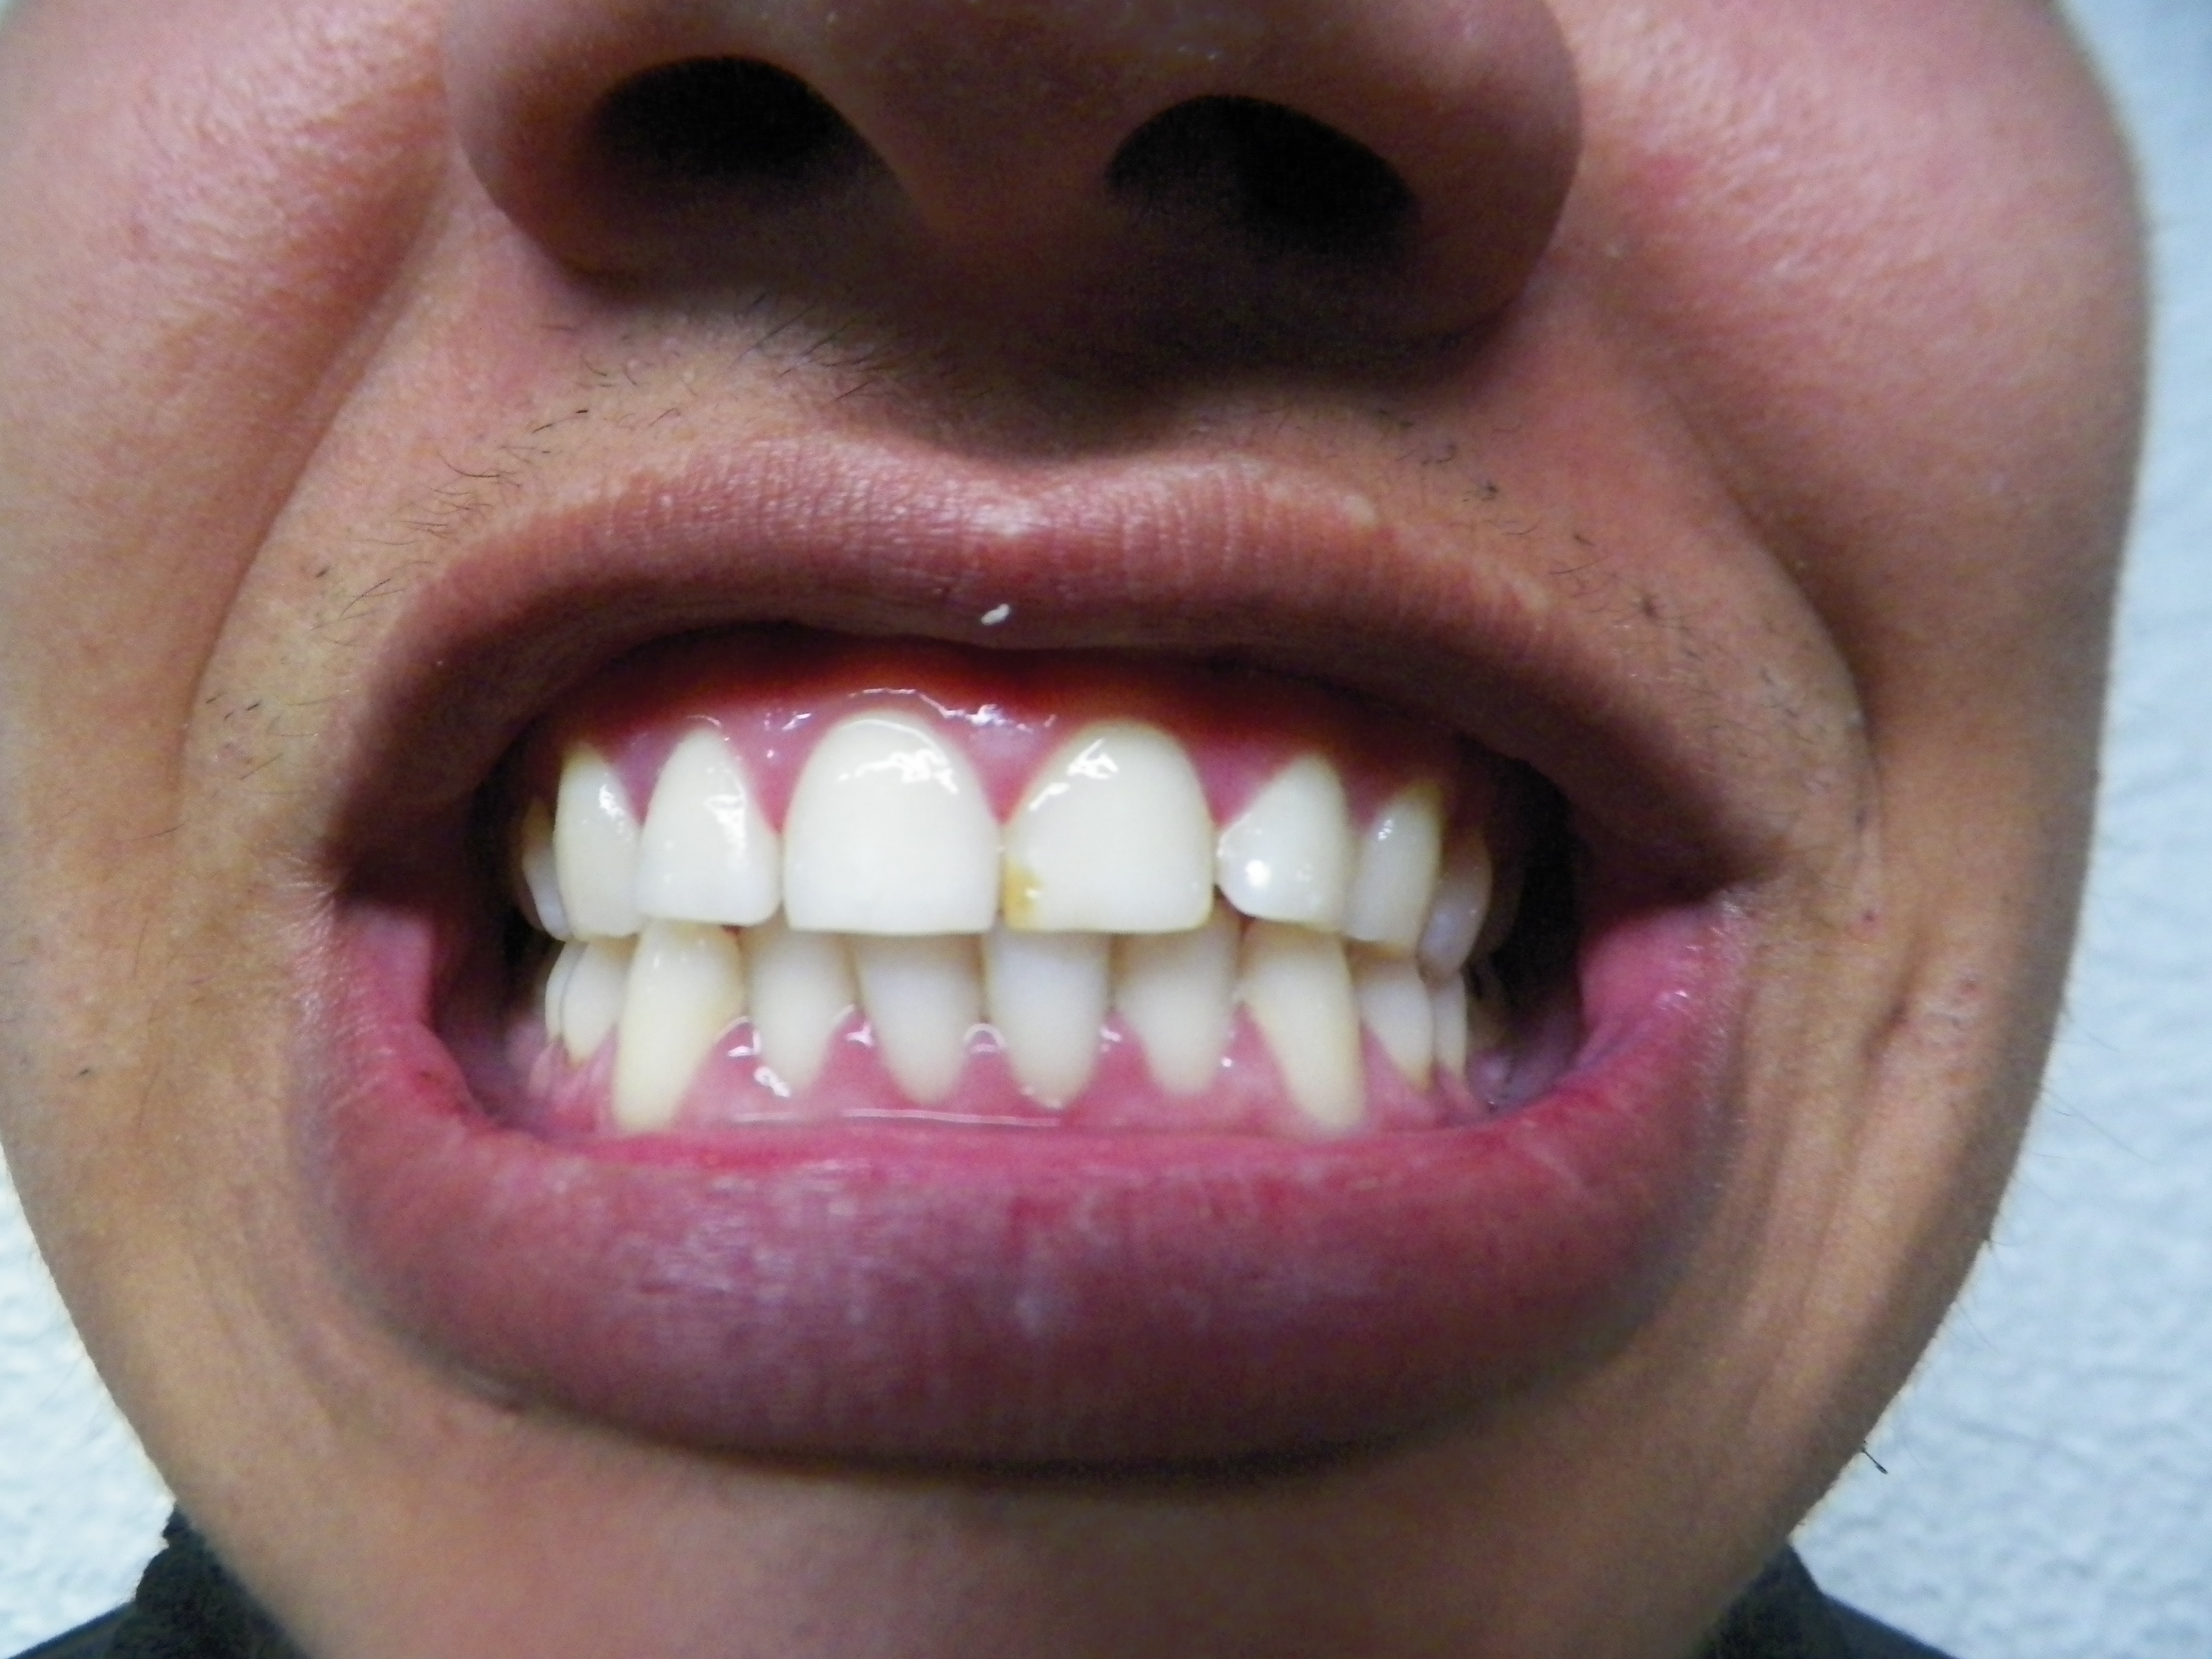boca: (327, 437, 1740, 1464)
